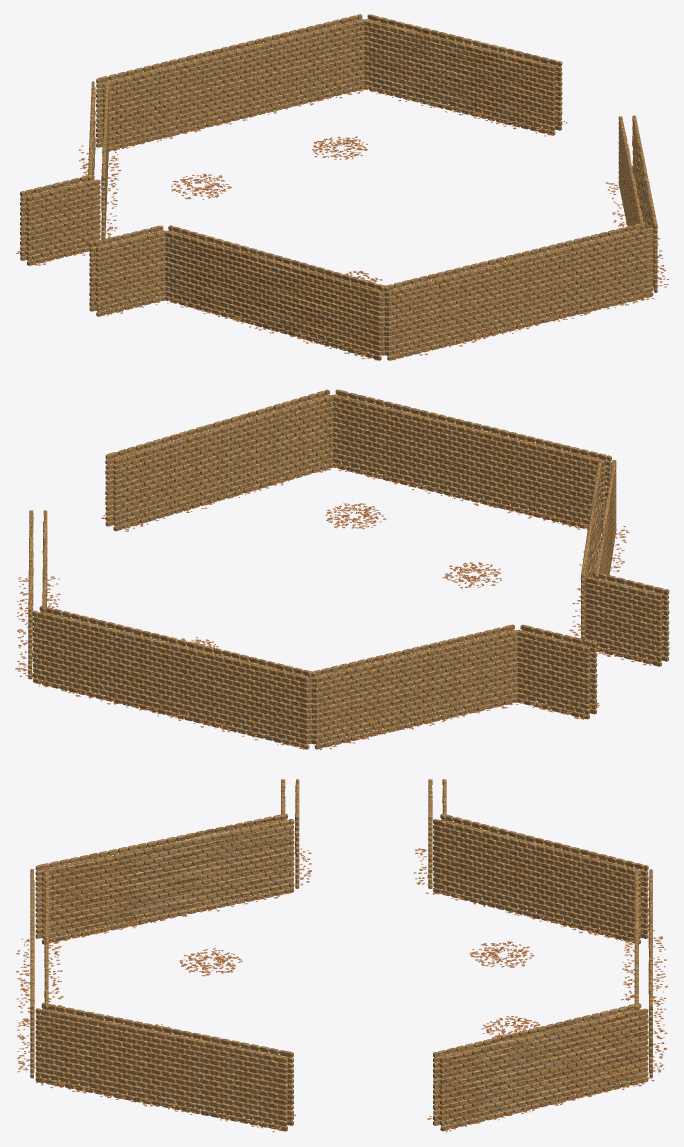
The model's file is AutumnDetailRoom09.fbx.
3 views of the same model, one above another, from view 1: azimuth 30°, elevation 25°; view 2: azimuth 150°, elevation 25°; view 3: azimuth 270°, elevation 25° (orthographic). The views are drawn at different scales.
Parts seen in each view (by area): view 1: R09_AutumnStonework_LOD0, R09_AutumnLeafDrifts_LOD0; view 2: R09_AutumnStonework_LOD0, R09_AutumnLeafDrifts_LOD0; view 3: R09_AutumnStonework_LOD0, R09_AutumnLeafDrifts_LOD0.
Boxes of the visible parts, bbox=[...] form: R09_AutumnStonework_LOD0: bbox=[20, 14, 657, 360]; R09_AutumnLeafDrifts_LOD0: bbox=[16, 85, 668, 360]; R09_AutumnStonework_LOD0: bbox=[28, 389, 669, 749]; R09_AutumnLeafDrifts_LOD0: bbox=[15, 465, 657, 749]; R09_AutumnStonework_LOD0: bbox=[30, 779, 652, 1131]; R09_AutumnLeafDrifts_LOD0: bbox=[16, 848, 668, 1132].
Size of what is drawn, in the model's own units: 45.8 by 5.47 by 44.51.
